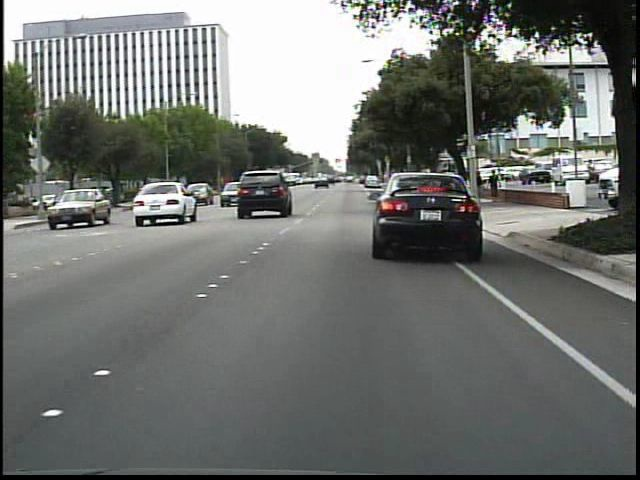person: (487, 170, 502, 206), (472, 170, 487, 202)
